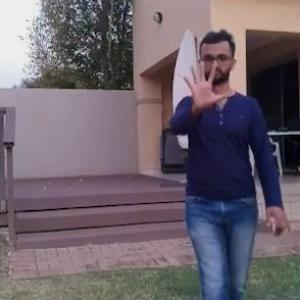follow_hand: (176, 54, 230, 109)
